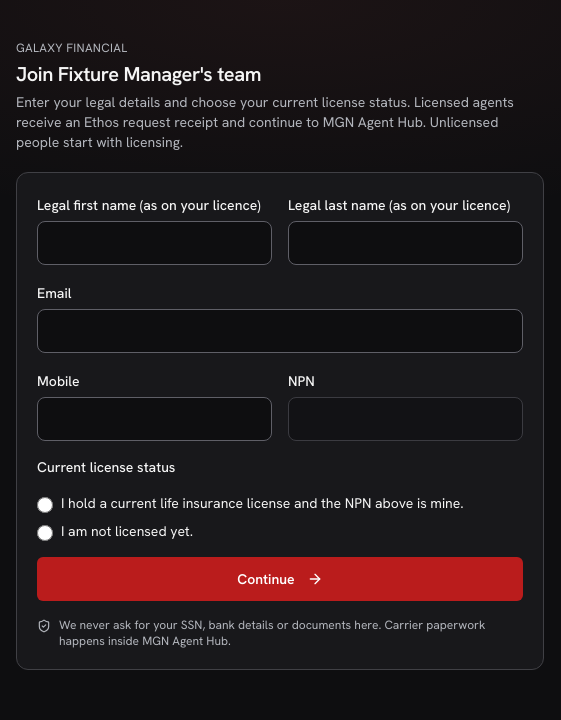
it: public contracting join receipts › requires an explicit license choice before making a request
Expected: the radio button labelled "I hold a current life insurance license and the NPN above is mine." is not checked, top-left (37, 497), bottom-right (53, 513)
Expected: the radio button labelled "I am not licensed yet." is not checked, top-left (37, 525), bottom-right (53, 541)
Click the button "Continue".
click(280, 579)  # box top-left (37, 557), bottom-right (523, 601)
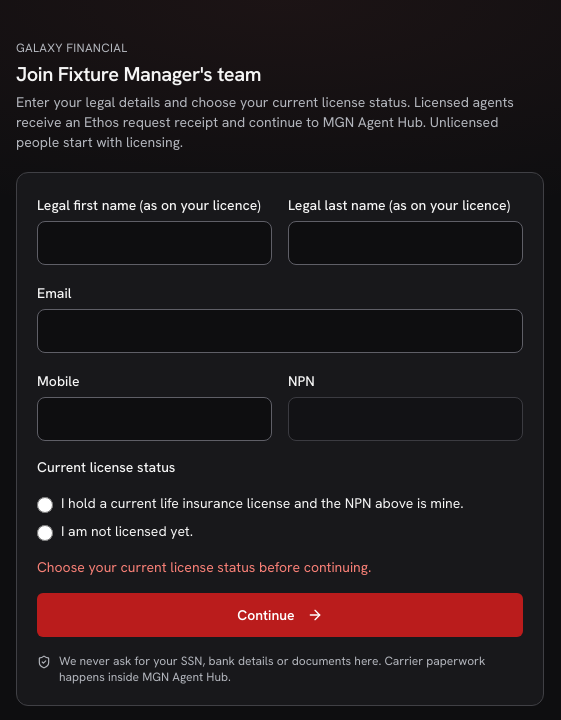
Result: the message shows "Choose your current license status" at top-left (37, 558), bottom-right (371, 576)
